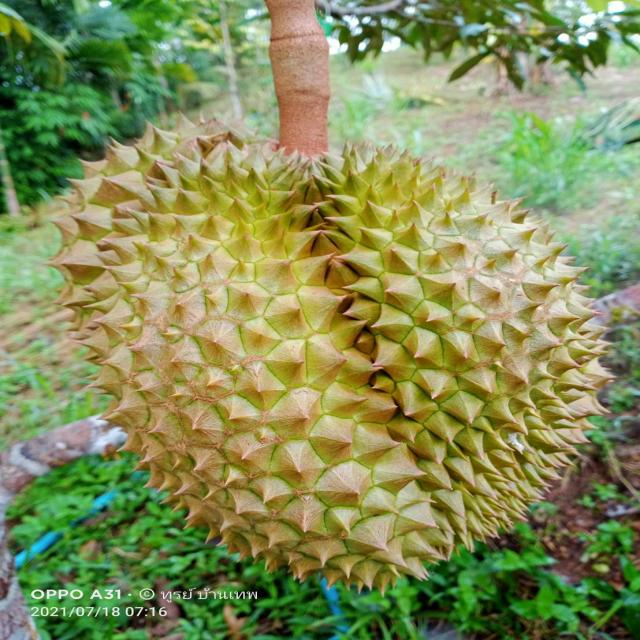mature: (39, 105, 616, 594)
